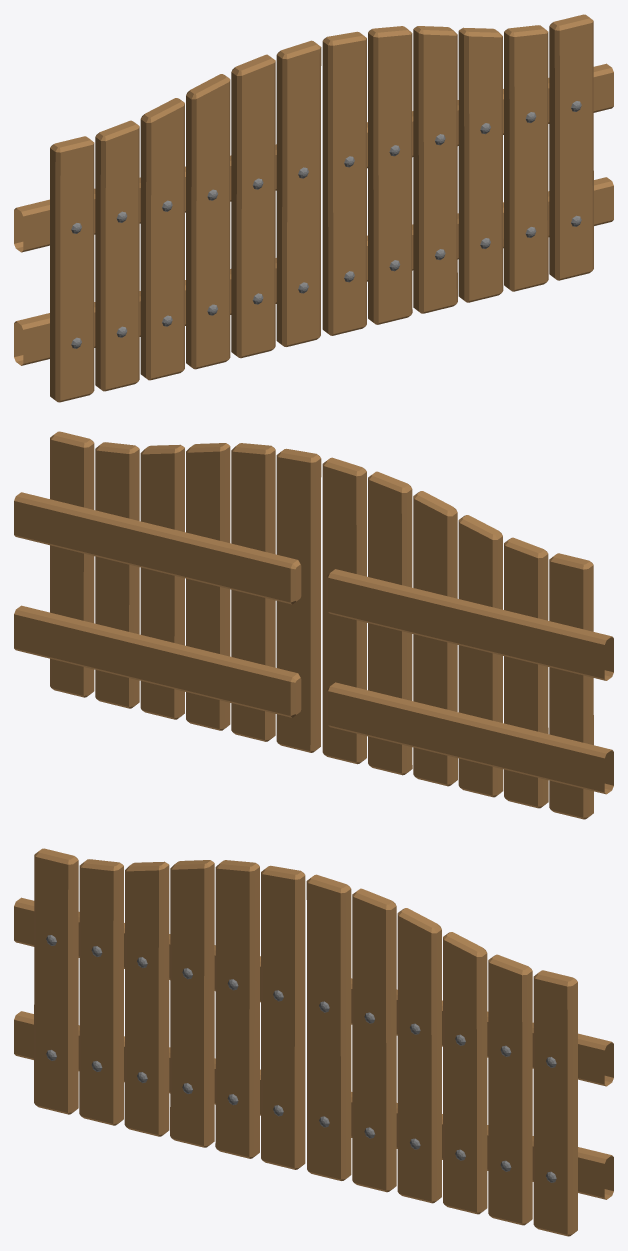
Rendered from Fence-Gate.001.fbx.
3 renders of one model, top to bottom at view 1: azimuth 30°, elevation 25°; view 2: azimuth 150°, elevation 25°; view 3: azimuth 330°, elevation 25°, orthographic.
Parts seen in each view (by area): view 1: Fence-Gate.001; view 2: Fence-Gate.001; view 3: Fence-Gate.001.
Part boxes in pixels (left/top/right/bottom): Fence-Gate.001: left=14, top=14, right=613, bottom=402; Fence-Gate.001: left=14, top=431, right=613, bottom=819; Fence-Gate.001: left=14, top=848, right=613, bottom=1236.
Size of the model in its own units: 372 by 178 by 20.51.
